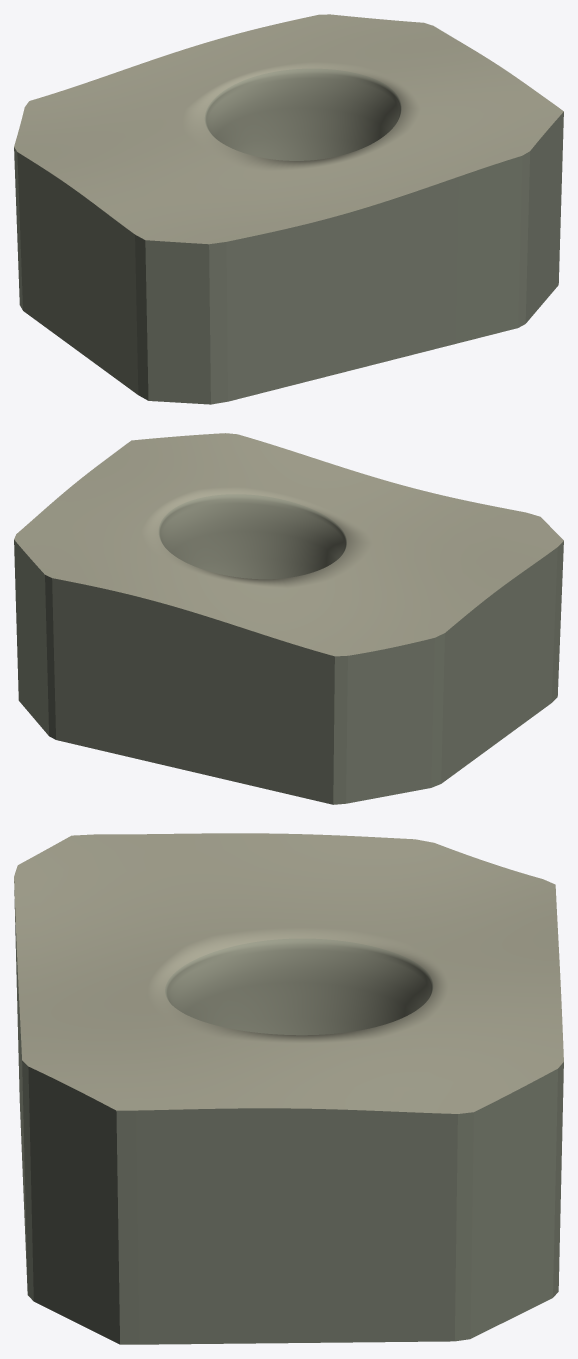
The model's file is bedrock-pothole.glb.
3 views of the same model, one above another, from view 1: azimuth 30°, elevation 25°; view 2: azimuth 150°, elevation 25°; view 3: azimuth 270°, elevation 25° (orthographic). The views are drawn at different scales.
Parts seen in each view (by area): view 1: continuous-bedrock-surface-with-deep-rounded-pothole-wall-an; view 2: continuous-bedrock-surface-with-deep-rounded-pothole-wall-an; view 3: continuous-bedrock-surface-with-deep-rounded-pothole-wall-an.
Part boxes in pixels (x1,y1,x2,y2): continuous-bedrock-surface-with-deep-rounded-pothole-wall-an: [14, 14, 563, 404]; continuous-bedrock-surface-with-deep-rounded-pothole-wall-an: [14, 433, 563, 804]; continuous-bedrock-surface-with-deep-rounded-pothole-wall-an: [14, 833, 563, 1344].
Size of the model in its own units: 0.7995 by 0.3084 by 0.6394.
